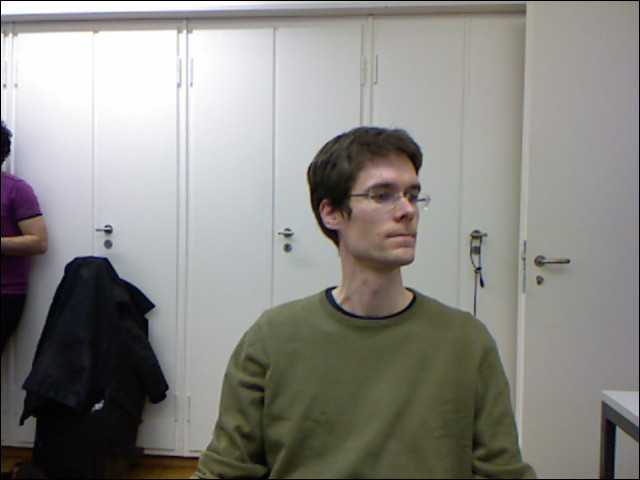deflection: (242, 132, 478, 480)
